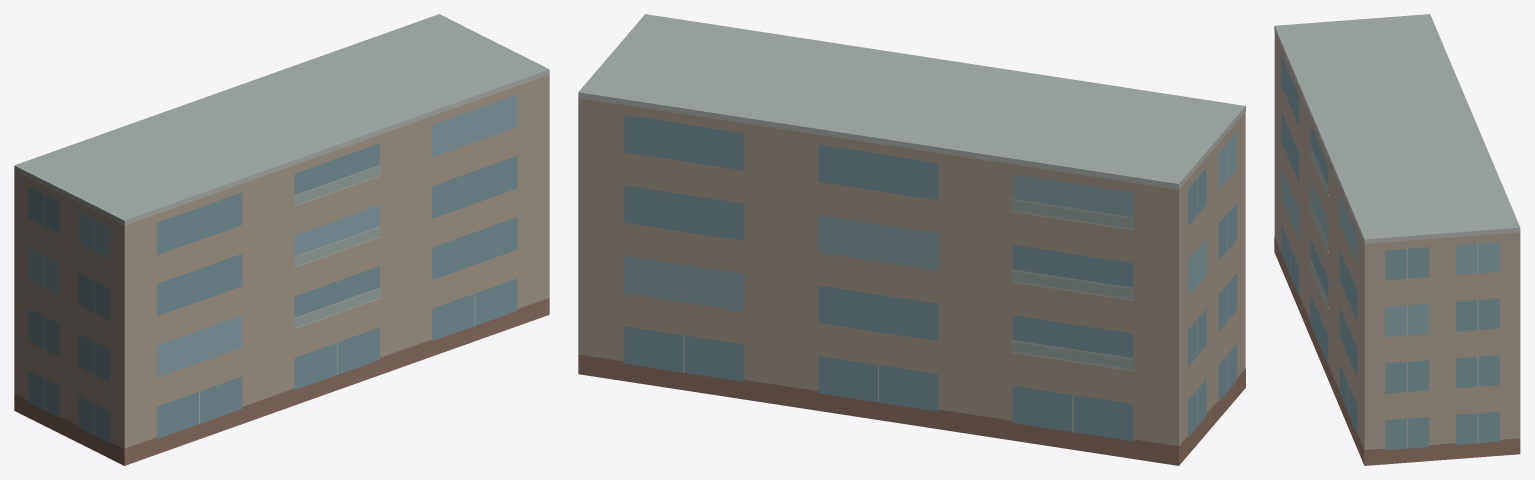
File: residential-d22ee601-6105-489f-b9f7-e6b40ff63ed5.glb
The picture shows the model from 3 angles, left to right: view 1: azimuth 30°, elevation 25°; view 2: azimuth 150°, elevation 25°; view 3: azimuth 270°, elevation 25°; orthographic projection. The views are drawn at different scales.
Parts seen in each view (by area): view 1: residential-d22ee601-6105-489f-b9f7-e6b40ff63ed5.tmp; view 2: residential-d22ee601-6105-489f-b9f7-e6b40ff63ed5.tmp; view 3: residential-d22ee601-6105-489f-b9f7-e6b40ff63ed5.tmp.
Boxes of the visible parts, <box> form: residential-d22ee601-6105-489f-b9f7-e6b40ff63ed5.tmp: <box>14,14,549,465</box>; residential-d22ee601-6105-489f-b9f7-e6b40ff63ed5.tmp: <box>578,14,1245,465</box>; residential-d22ee601-6105-489f-b9f7-e6b40ff63ed5.tmp: <box>1274,14,1520,465</box>.
Bounding box in the file's own units: 25.61 × 12 × 11.81.
